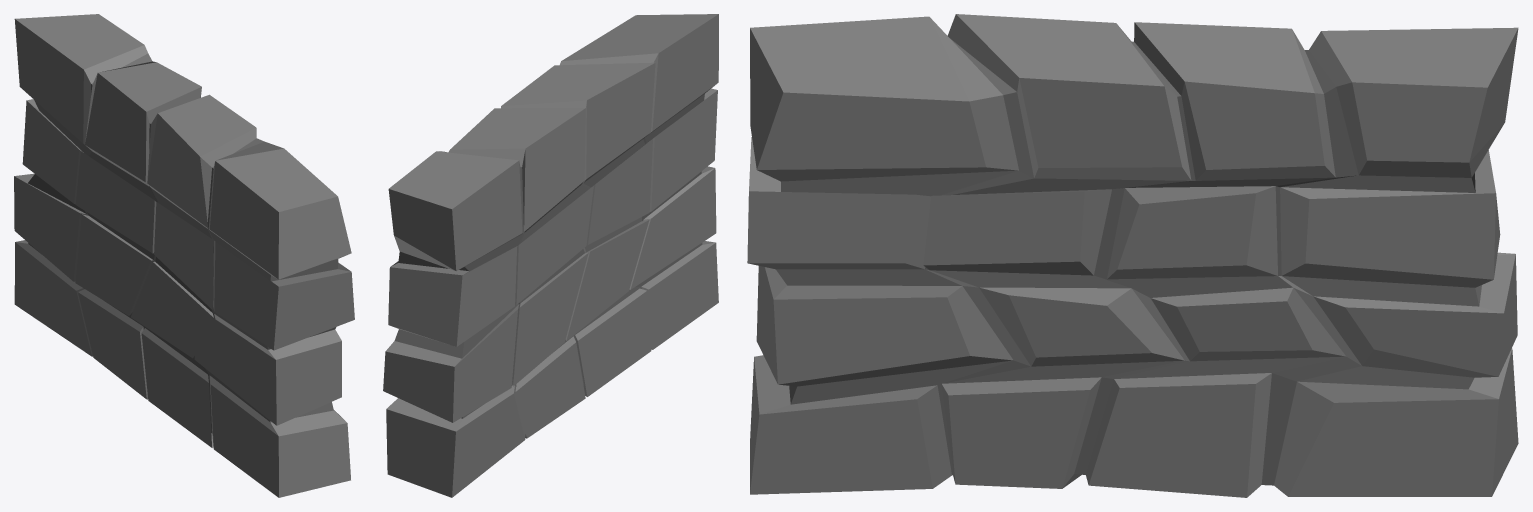
The model's file is Quick_Wall.fbx.
3 views of the same model, side by side, from view 1: azimuth 30°, elevation 25°; view 2: azimuth 150°, elevation 25°; view 3: azimuth 270°, elevation 25° (orthographic). The views are drawn at different scales.
Parts seen in each view (by area): view 1: Cube; view 2: Cube; view 3: Cube.
Boxes of the visible parts, x1,y1,x2,y2 form: Cube: (14,14,354,497); Cube: (383,14,718,497); Cube: (747,14,1518,497).
Bounding box in the file's own units: 32.85 × 104 × 170.
